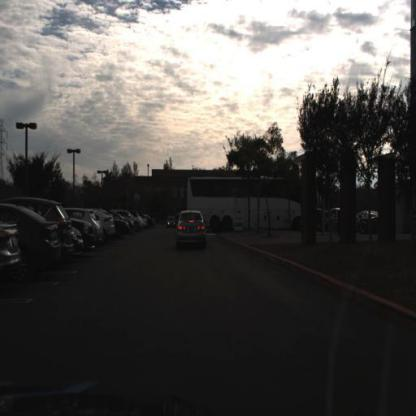car: (0, 201, 60, 269), (62, 205, 102, 247), (173, 205, 207, 251), (94, 208, 116, 239), (60, 201, 71, 258), (351, 208, 381, 228), (82, 215, 96, 251), (104, 211, 118, 243), (95, 209, 106, 245), (72, 224, 84, 254)
truck: (183, 174, 308, 230), (185, 172, 298, 218)
